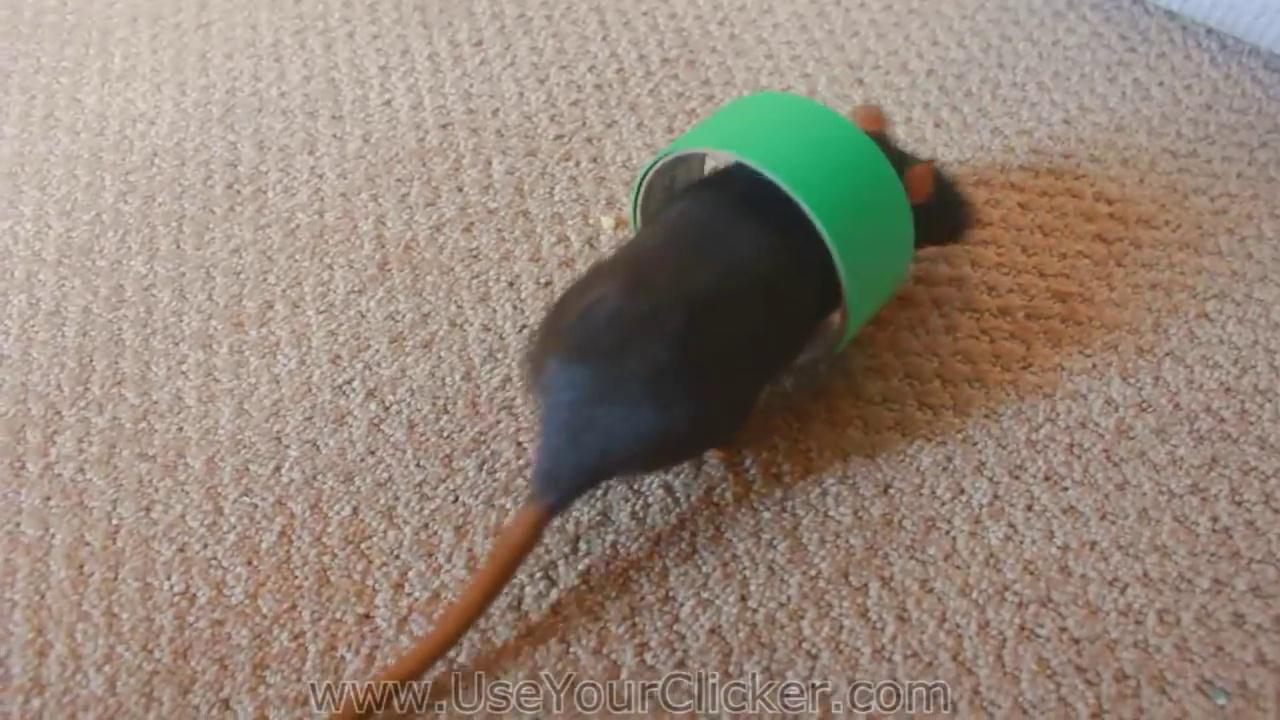rat: (329, 101, 977, 720)
